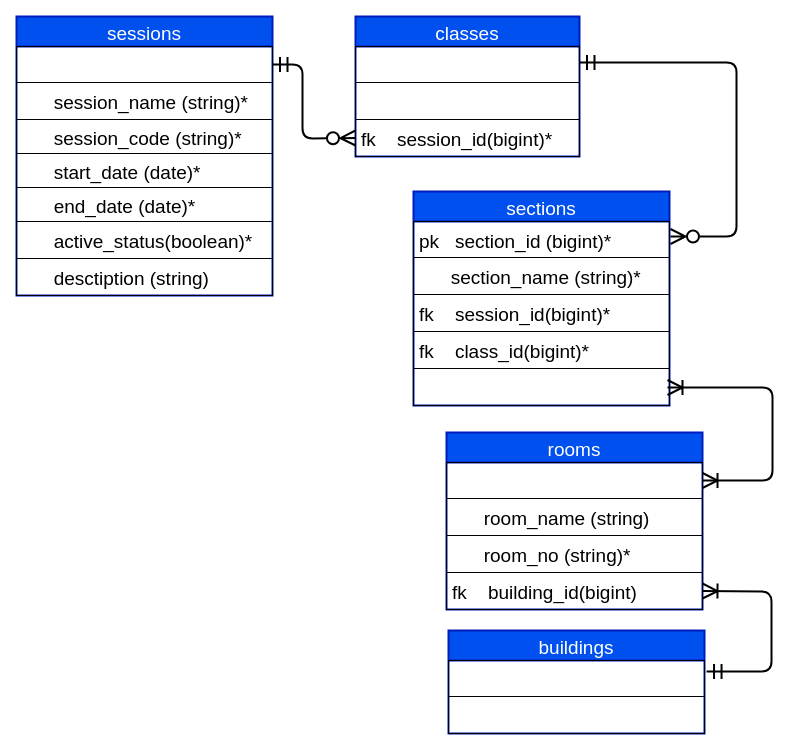
This 789x750 diagram has some shape labels left out. The centre of each missing label's shape, as x and y in pixels:
"building_name (string)" belongs at point (576, 715).
"class_name (string)*" belongs at point (467, 101).
"fk room_id(bigint)" belongs at point (541, 387).
"pk building_id (bigint)*" belongs at point (576, 678).
"pk class_id (bigint)*" belongs at point (467, 64).
"pk room_id (bigint)*" belongs at point (574, 480).
"pk session_id (bigint)*" belongs at point (144, 64).
